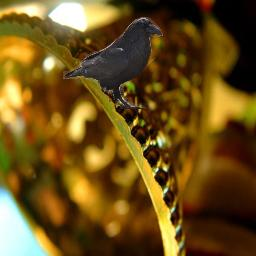Crow: (63, 17, 163, 109)
